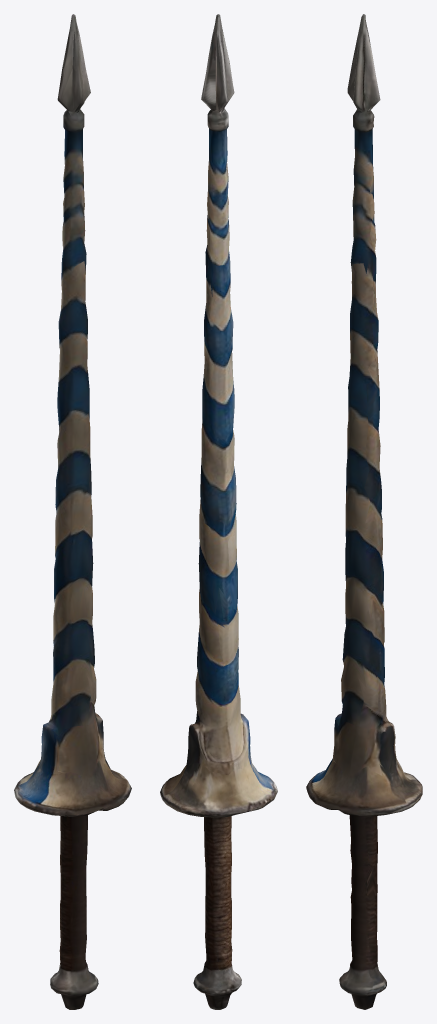
File: blue_tourney_lance.glb
3 views of the same model, side by side, from view 1: azimuth 30°, elevation 25°; view 2: azimuth 210°, elevation 25°; view 3: azimuth 330°, elevation 25° (orthographic).
Parts seen in each view (by area): view 1: blue_tourney_lance; view 2: blue_tourney_lance; view 3: blue_tourney_lance.
Part boxes in pixels (x1,y1,x2,y2): blue_tourney_lance: [14, 14, 131, 1009]; blue_tourney_lance: [160, 14, 277, 1009]; blue_tourney_lance: [306, 14, 422, 1009].
Size of the model in its own units: 0.3219 by 3 by 0.3129.
Materials: 1 (1 with a texture image).
